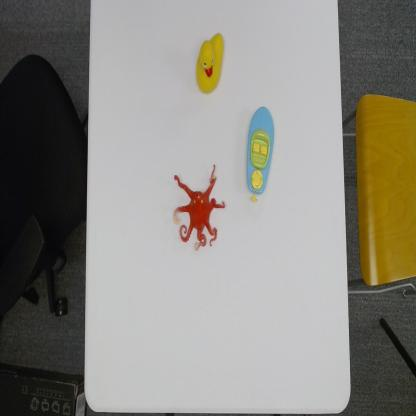Boat: (245, 105, 276, 204)
Duck: (194, 31, 226, 94)
Octopus: (172, 166, 231, 250)
